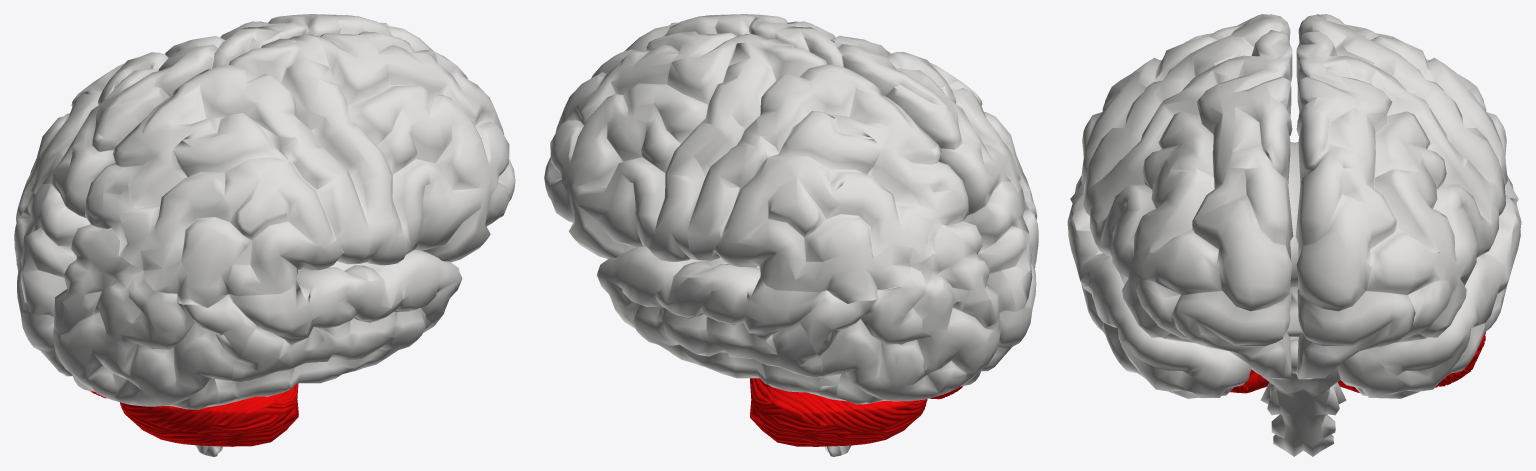
Rendered from brain.glb.
The picture shows the model from 3 angles, left to right: view 1: azimuth 30°, elevation 25°; view 2: azimuth 150°, elevation 25°; view 3: azimuth 270°, elevation 25°; orthographic projection. The views are drawn at different scales.
Visible parts, largest first — view 1: Material2 (×5); view 2: Material2 (×5); view 3: Material2 (×6).
Part boxes in pixels (x1=…): Material2 (×5): x1=14, y1=14, x2=515, y2=446; Material2 (×5): x1=544, y1=14, x2=1038, y2=446; Material2 (×6): x1=1067, y1=14, x2=1521, y2=456.
Bounding box in the file's own units: 6.42 × 5.62 × 5.28.
